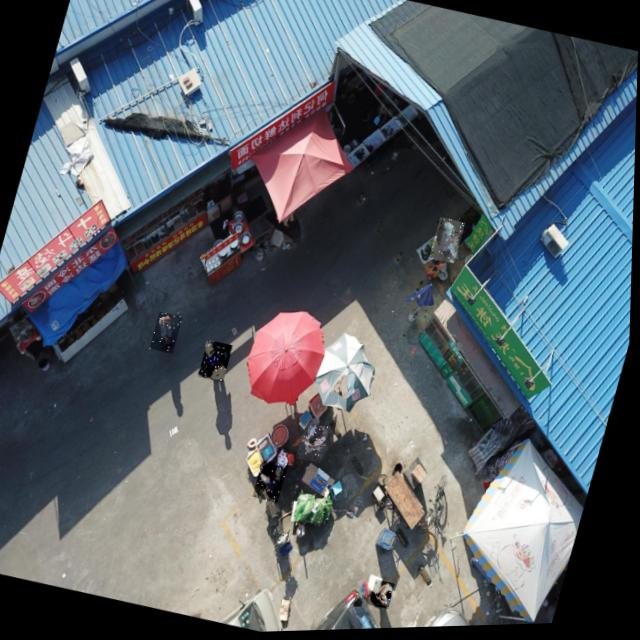Person: (430, 220, 466, 267), (255, 461, 290, 505), (200, 340, 235, 383), (199, 340, 233, 384), (298, 423, 332, 466), (151, 312, 184, 355), (372, 581, 398, 612)
